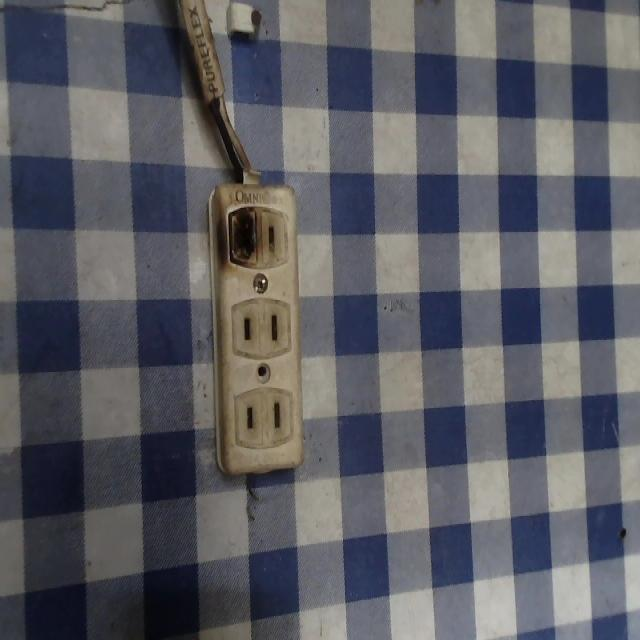-: (217, 196, 266, 271)
